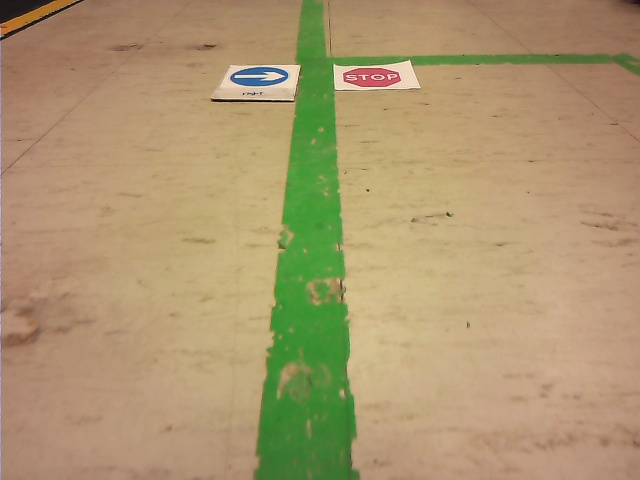STOP: (343, 67, 400, 87)
TURN RIGHT: (231, 66, 288, 86)
